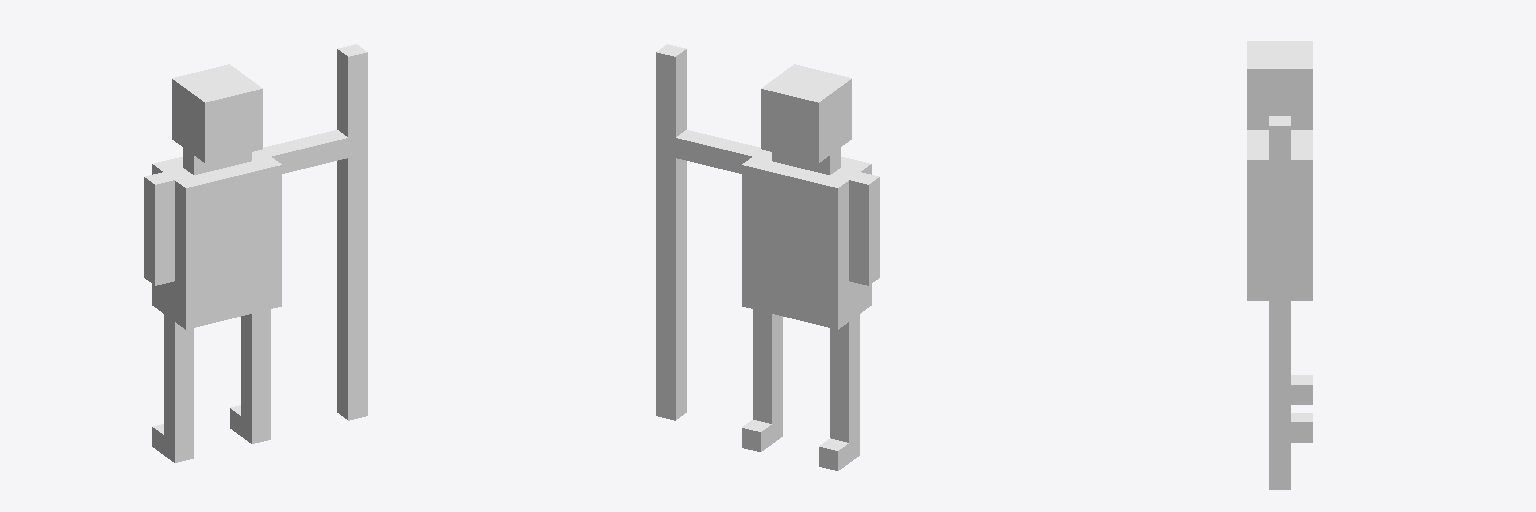
File: tribe.obj
3 views of the same model, side by side, from view 1: azimuth 30°, elevation 25°; view 2: azimuth 150°, elevation 25°; view 3: azimuth 270°, elevation 25° (orthographic).
Bounding box in the file's own units: 11 × 18 × 3.